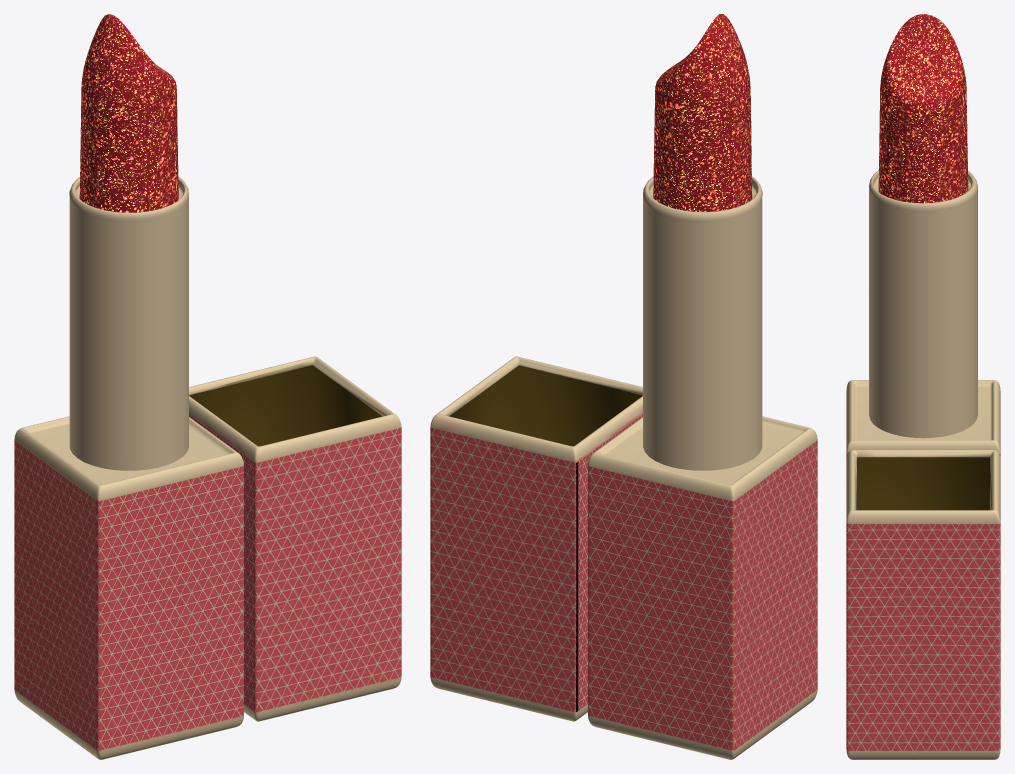
The model's file is glitterLipstic.gltf.
3 views of the same model, side by side, from view 1: azimuth 30°, elevation 25°; view 2: azimuth 150°, elevation 25°; view 3: azimuth 270°, elevation 25° (orthographic). The views are drawn at different scales.
Visible parts, largest first — view 1: Rectangle, Rectangle1, Cone, Lipstick_colour; view 2: Rectangle, Rectangle1, Cone, Lipstick_colour; view 3: Rectangle1, Cone, Lipstick_colour, Rectangle.
Part boxes in pixels (<box>): Rectangle: <box>14,416,243,759</box>; Rectangle1: <box>189,356,401,721</box>; Cone: <box>69,176,188,470</box>; Lipstick_colour: <box>79,14,178,212</box>; Rectangle: <box>588,416,817,759</box>; Rectangle1: <box>430,356,642,721</box>; Cone: <box>643,176,762,470</box>; Lipstick_colour: <box>653,14,752,211</box>; Rectangle1: <box>846,450,1000,759</box>; Cone: <box>869,170,977,438</box>; Lipstick_colour: <box>878,14,968,203</box>; Rectangle: <box>846,380,1000,459</box>.
Bounding box in the file's own units: 0.5766 × 1.27 × 0.2781.
Materials: 4 (4 with a texture image).
